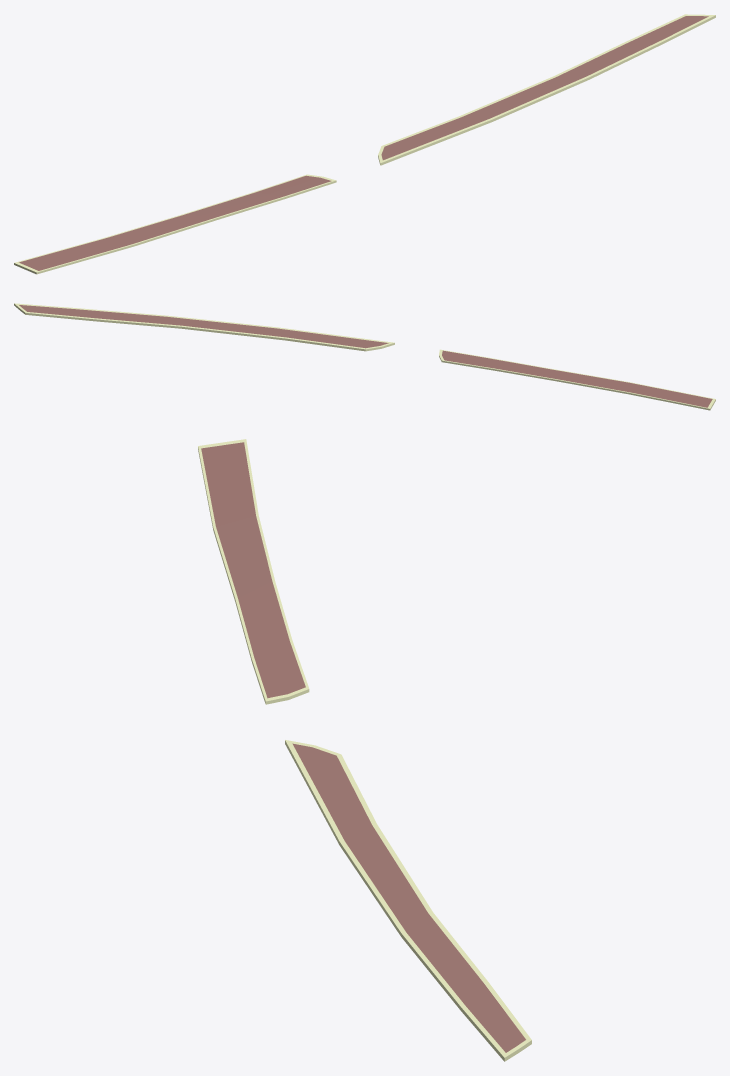
The model's file is 人行道地磚.fbx.
The picture shows the model from 3 angles, top to bottom: view 1: azimuth 30°, elevation 25°; view 2: azimuth 150°, elevation 25°; view 3: azimuth 270°, elevation 25°; orthographic projection. The views are drawn at different scales.
Parts seen in each view (by area): view 1: 人行道地磚2; view 2: 人行道地磚2; view 3: 人行道地磚2.
Boxes of the visible parts, x1,y1,x2,y2 form: 人行道地磚2: [14, 14, 715, 274]; 人行道地磚2: [14, 303, 715, 410]; 人行道地磚2: [198, 439, 531, 1061].
Bounding box in the file's own units: 11834 × 59.33 × 2710.
